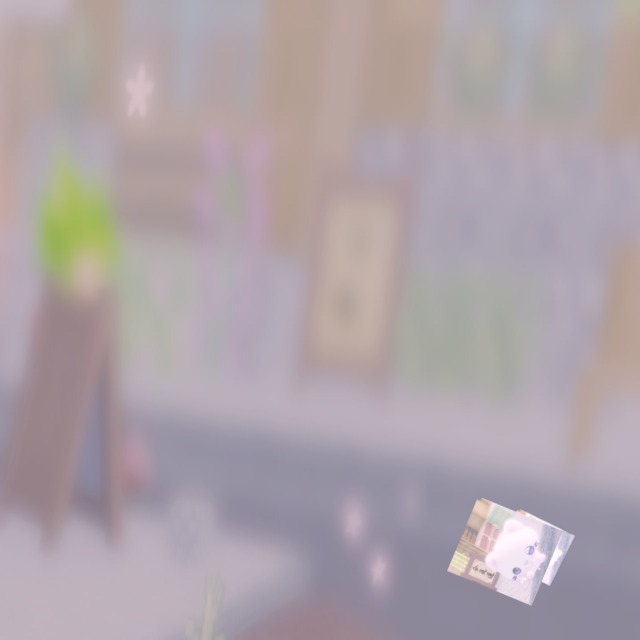urso_branco: (447, 496, 563, 606), (493, 508, 575, 586)
